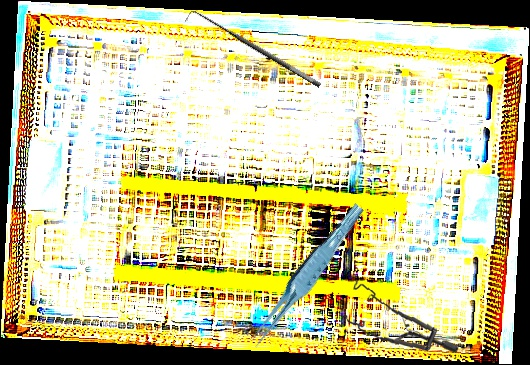Hook Surgical: (184, 4, 323, 99)
Speculum: (335, 274, 461, 361)
Tissue Forceps: (237, 201, 375, 350)
